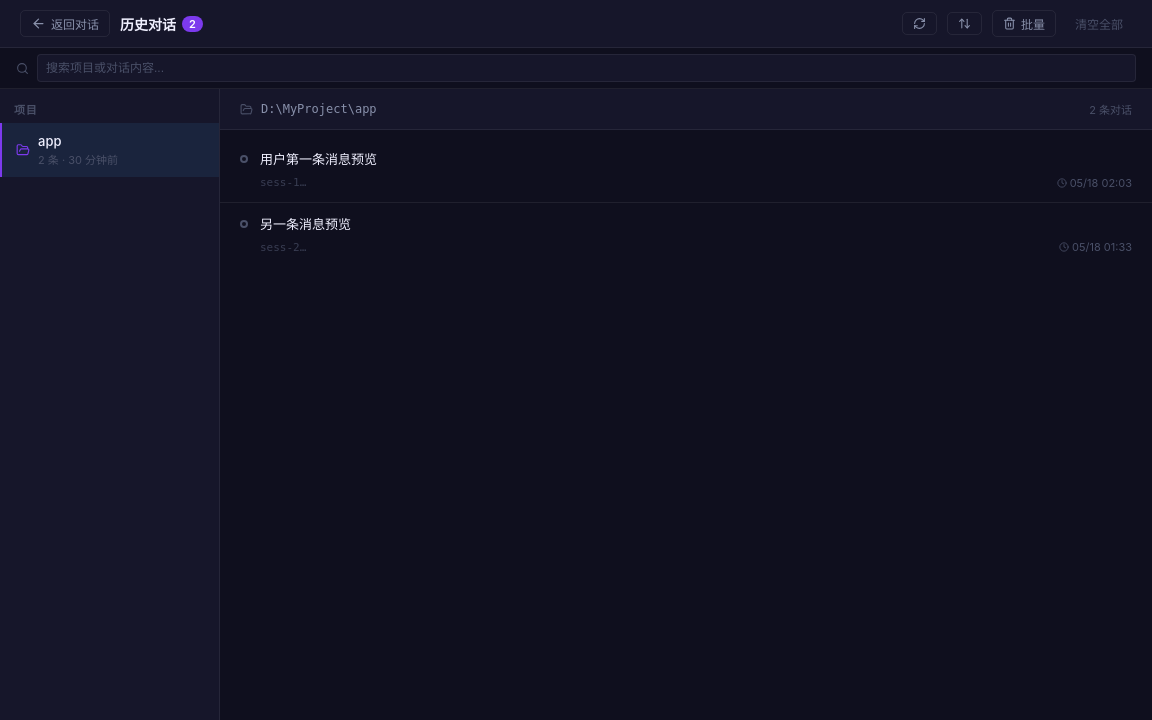
Test: HistoryPanel - 有历史记录 › 搜索后清除按钮可重置搜索
The width and height of the screenshot is (1152, 720).
Type "测试关键词" into the field with placeholder "搜索项目或对话内容..." at (586, 68), box [37,54,1136,82]
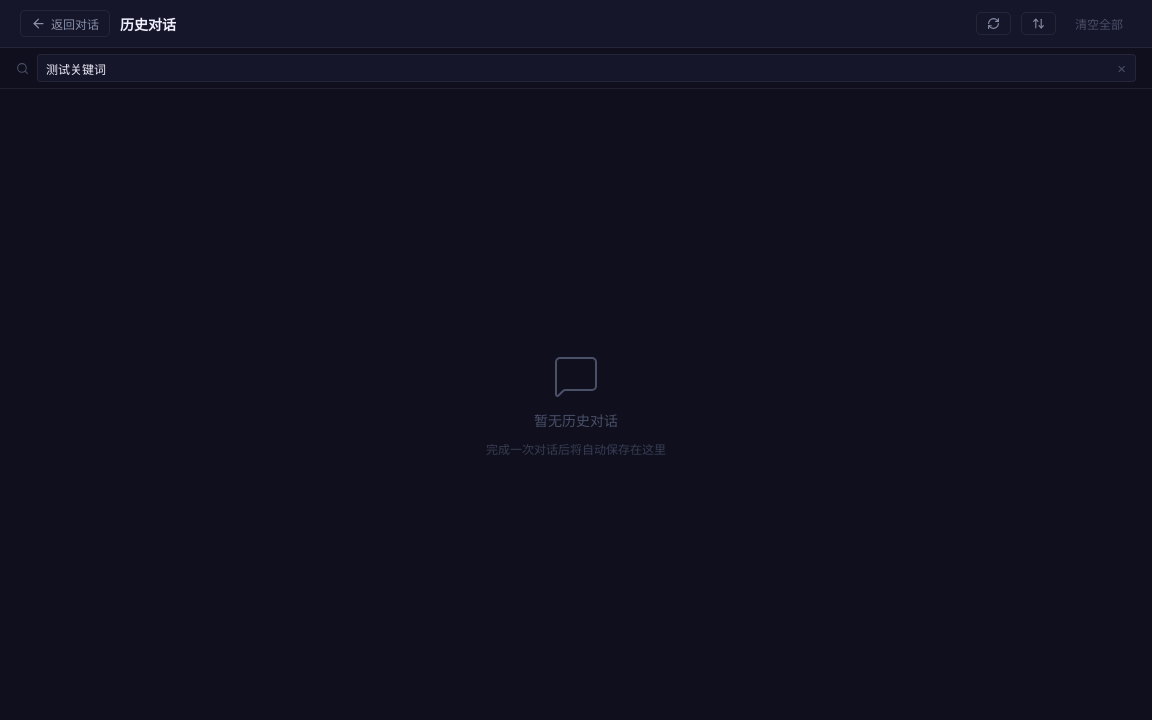
Click the button titled "清除搜索" at (1122, 68), box [1113,60,1130,76]
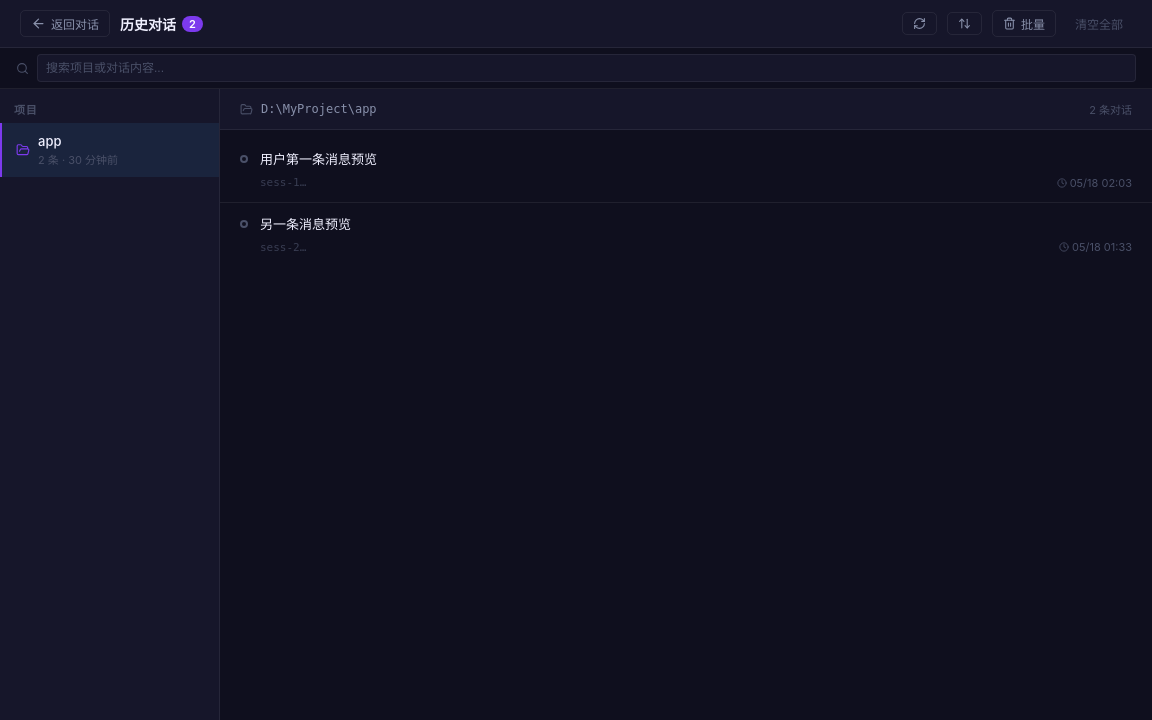
Expected: the text "app" is shown, [38,133,62,149]
